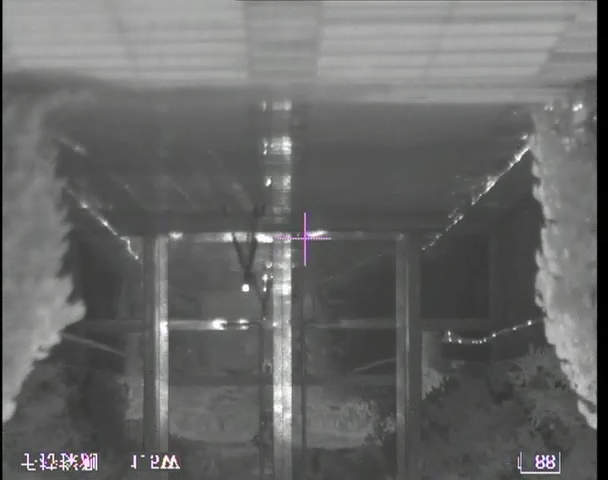my: (240, 283, 251, 294)
